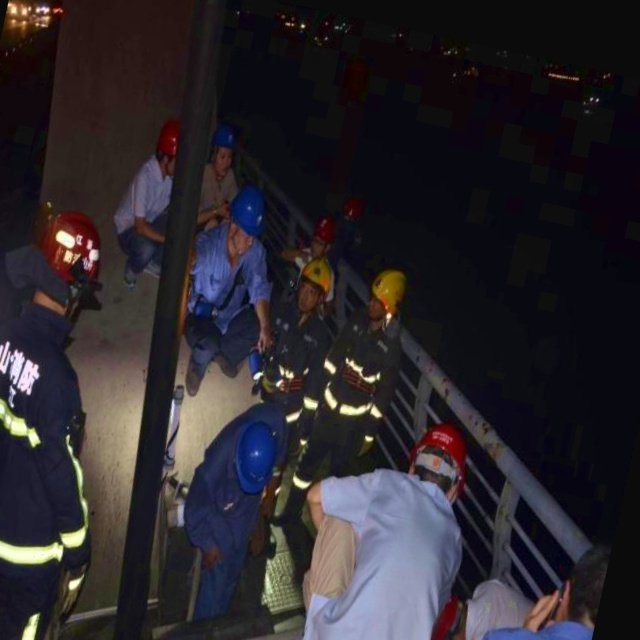Con_Casco: (221, 183, 273, 257)
Con_Chaleco: (0, 314, 118, 590)
Sin_Chaleco: (312, 463, 471, 640)
